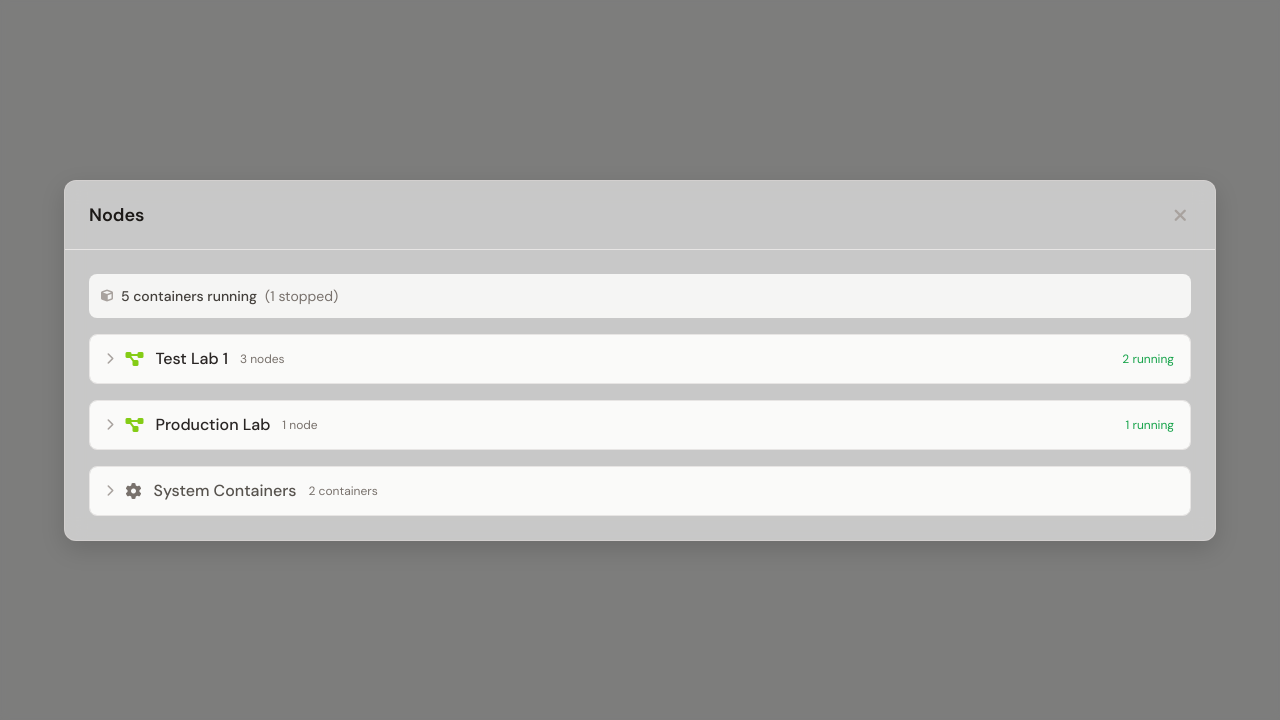
Test: ContainersPopup › collapses lab section when clicked again
# Click to expand
Step 1. Click the text "Test Lab 1" → point(192, 358), box x1=156 y1=346 x2=228 y2=370
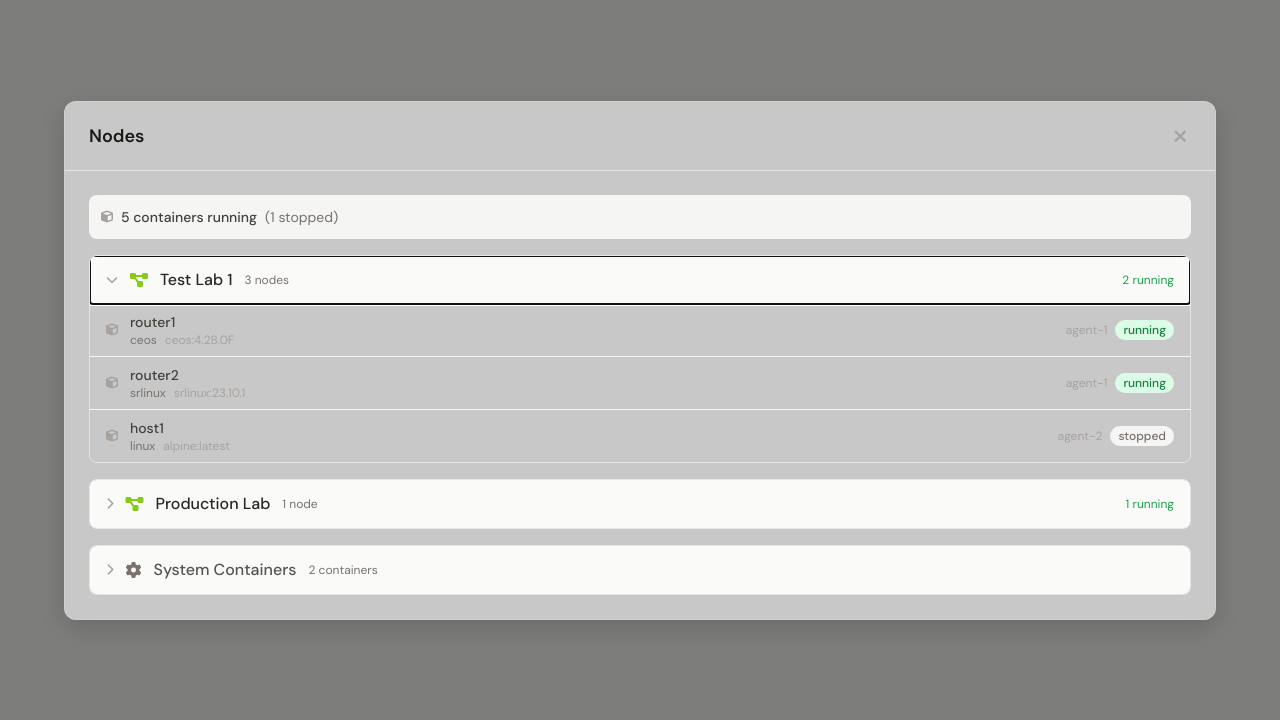
expect the text "router1" is shown: met, box x1=130 y1=312 x2=175 y2=330
# Click to collapse
Step 2. Click the text "Test Lab 1" → point(196, 280), box x1=160 y1=268 x2=232 y2=292
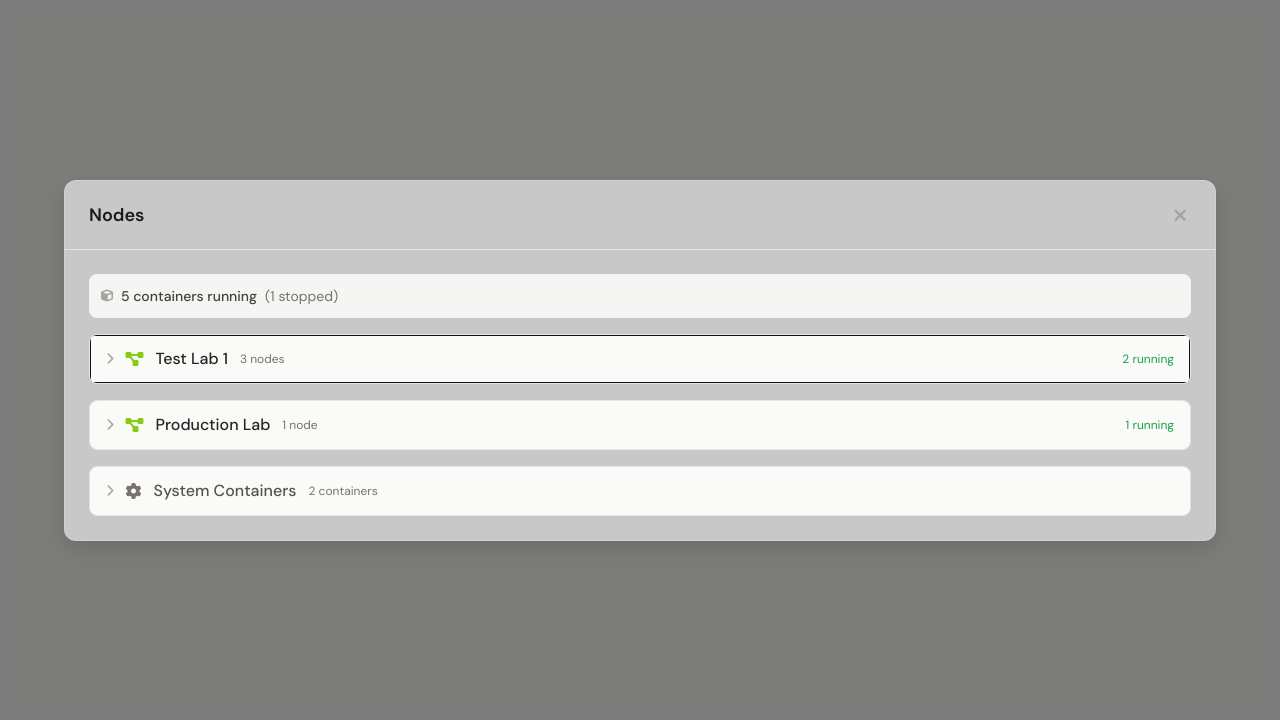
expect the text "router1" is gone: met
